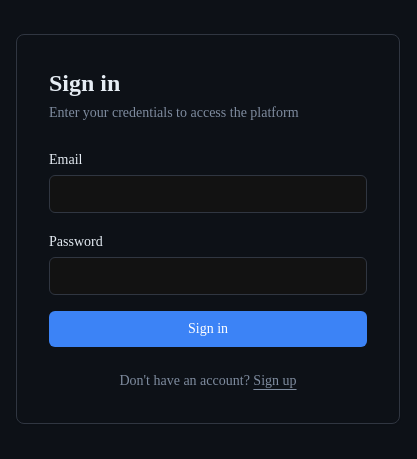
Test: LoginPage › displays an error message on failed sign-in
In the field labelled "Email": [208, 194] box [49, 175, 367, 213], type "alice@example.com"
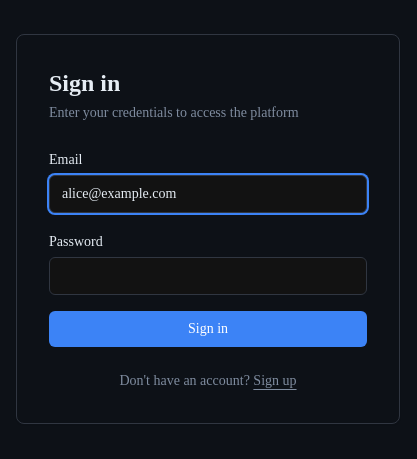
In the password field labelled "Password": [208, 276] box [49, 257, 367, 295], type "wrongpass"
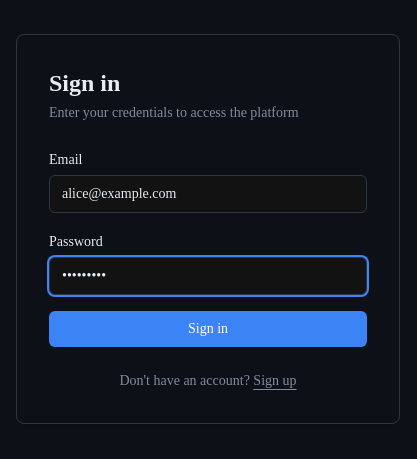
Click the button "Sign in": [208, 329] box [49, 311, 367, 347]
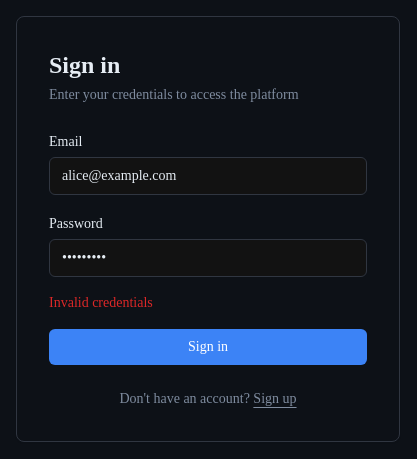
Expected: the text "Invalid credentials" is shown, [49, 295, 153, 310]
